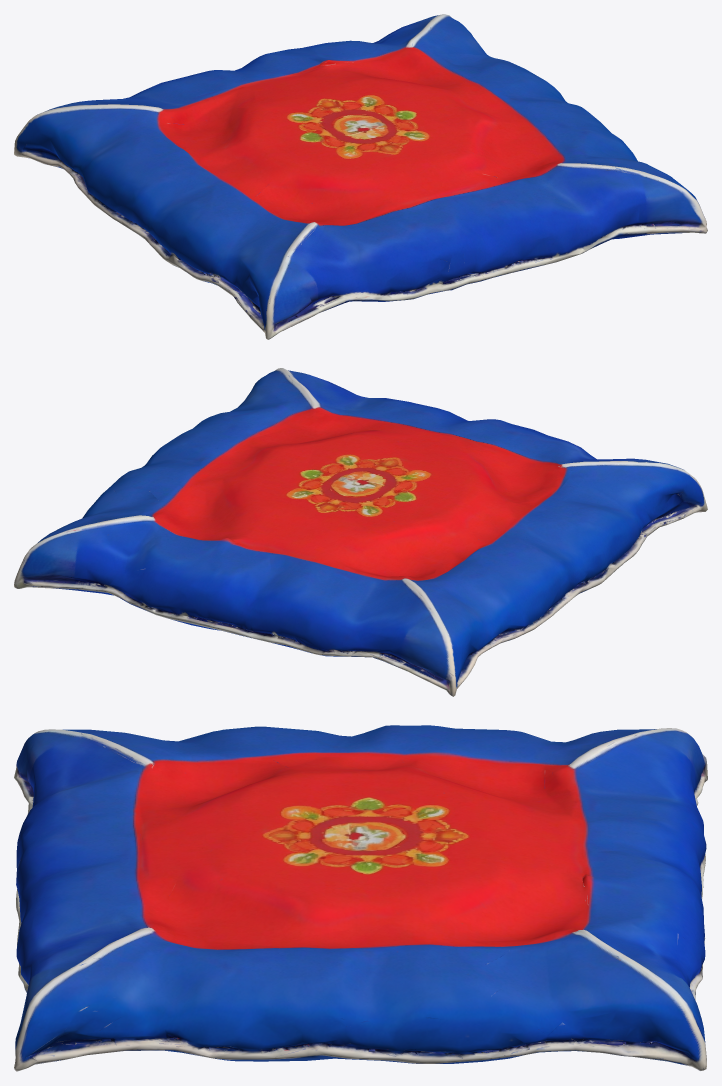
Rendered from quit.fbx.
3 renders of one model, top to bottom at view 1: azimuth 30°, elevation 25°; view 2: azimuth 150°, elevation 25°; view 3: azimuth 270°, elevation 25°, orthographic. The views are drawn at different scales.
Parts seen in each view (by area): view 1: Mesh1.0; view 2: Mesh1.0; view 3: Mesh1.0.
Part boxes in pixels (x1,y1,x2,y2): Mesh1.0: (14,14,707,339); Mesh1.0: (14,368,707,696); Mesh1.0: (14,725,707,1071).
Size of the model in its own units: 201 by 35.66 by 200.
Materials: 1 (1 with a texture image).
